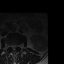CCS_normal: (12, 43, 14, 51)
LFS_stenosis: (17, 43, 19, 48)
LLS_normal: (15, 43, 17, 49)
RFS_stenosis: (8, 43, 10, 49)
RLS_normal: (10, 43, 12, 49)
